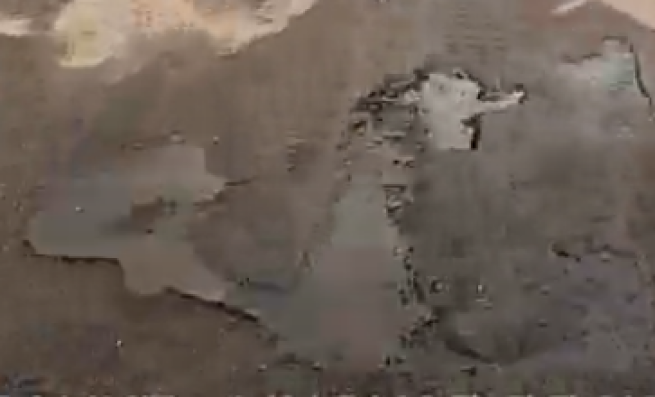Berlubang: (302, 51, 534, 387), (4, 164, 318, 355)
